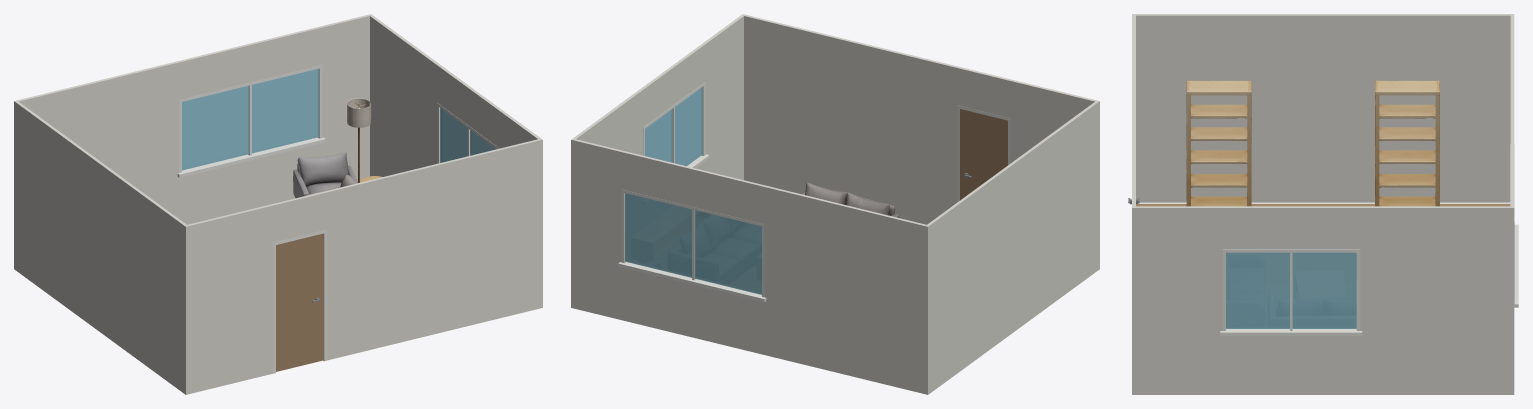
File: scenesmith.glb
The picture shows the model from 3 angles, left to right: view 1: azimuth 30°, elevation 25°; view 2: azimuth 150°, elevation 25°; view 3: azimuth 270°, elevation 25°; orthographic projection. The views are drawn at different scales.
Parts seen in each view (by area): view 1: scene_029_living_room_south_wall, scene_029_living_room_north_wall, scene_029_living_room_west_wall, scene_029_living_room_east_wall, scene_029_living_room_north_wall Window 0 | glazing, scene_029_living_room_south_wall Door 0 | wood leaf, furniture_group, scene_029_living_room_north_wall Window 0 | jamb, scene_029_living_room_east_wall Window 0 | glazing, scene_029_living_room_south_wall Door 0 | jamb, scene_029_living_room_east_wall Window 0 | jamb; view 2: scene_029_living_room_north_wall, scene_029_living_room_south_wall, scene_029_living_room_west_wall, scene_029_living_room_east_wall, scene_029_living_room_north_wall Window 0 | glazing, scene_029_living_room_south_wall Door 0 | wood leaf, scene_029_living_room_east_wall Window 0 | glazing, scene_029_living_room_north_wall Window 0 | jamb, furniture_group, scene_029_living_room_east_wall Window 0 | jamb, scene_029_living_room_south_wall Door 0 | jamb; view 3: scene_029_living_room_west_wall, scene_029_living_room_east_wall, furniture_group, scene_029_living_room_east_wall Window 0 | glazing, scene_029_living_room_east_wall Window 0 | jamb, scene_029_living_room_south_wall, floor, scene_029_living_room_north_wall, scene_029_living_room_north_wall Window 0 | jamb.
Part boxes in pixels (x1=…): scene_029_living_room_south_wall: x1=186, y1=139, x2=542, y2=394; scene_029_living_room_north_wall: x1=14, y1=15, x2=369, y2=224; scene_029_living_room_west_wall: x1=14, y1=101, x2=188, y2=394; scene_029_living_room_east_wall: x1=368, y1=14, x2=542, y2=176; scene_029_living_room_north_wall Window 0 | glazing: x1=182, y1=68, x2=318, y2=170; scene_029_living_room_south_wall Door 0 | wood leaf: x1=276, y1=233, x2=323, y2=371; furniture_group: x1=293, y1=98, x2=382, y2=198; scene_029_living_room_north_wall Window 0 | jamb: x1=177, y1=65, x2=325, y2=177; scene_029_living_room_east_wall Window 0 | glazing: x1=440, y1=108, x2=496, y2=162; scene_029_living_room_south_wall Door 0 | jamb: x1=273, y1=230, x2=326, y2=373; scene_029_living_room_east_wall Window 0 | jamb: x1=437, y1=103, x2=499, y2=163; scene_029_living_room_north_wall: x1=574, y1=139, x2=929, y2=393; scene_029_living_room_south_wall: x1=744, y1=15, x2=1096, y2=224; scene_029_living_room_west_wall: x1=925, y1=100, x2=1099, y2=394; scene_029_living_room_east_wall: x1=571, y1=14, x2=745, y2=308; scene_029_living_room_north_wall Window 0 | glazing: x1=625, y1=193, x2=761, y2=294; scene_029_living_room_south_wall Door 0 | wood leaf: x1=960, y1=109, x2=1007, y2=200; scene_029_living_room_east_wall Window 0 | glazing: x1=645, y1=87, x2=702, y2=166; scene_029_living_room_north_wall Window 0 | jamb: x1=618, y1=189, x2=766, y2=302; furniture_group: x1=802, y1=182, x2=899, y2=217; scene_029_living_room_east_wall Window 0 | jamb: x1=643, y1=82, x2=709, y2=168; scene_029_living_room_south_wall Door 0 | jamb: x1=957, y1=105, x2=1010, y2=202; scene_029_living_room_west_wall: x1=1132, y1=14, x2=1510, y2=202; scene_029_living_room_east_wall: x1=1132, y1=206, x2=1514, y2=394; furniture_group: x1=1186, y1=80, x2=1439, y2=206; scene_029_living_room_east_wall Window 0 | glazing: x1=1226, y1=252, x2=1356, y2=328; scene_029_living_room_east_wall Window 0 | jamb: x1=1220, y1=249, x2=1362, y2=335; scene_029_living_room_south_wall: x1=1132, y1=15, x2=1135, y2=394; floor: x1=1136, y1=203, x2=1510, y2=206; scene_029_living_room_north_wall: x1=1510, y1=14, x2=1514, y2=206; scene_029_living_room_north_wall Window 0 | jamb: x1=1510, y1=144, x2=1518, y2=307.
Size of the model in its own units: 6.05 by 2.71 by 5.1.
Materials: 15 (9 with a texture image).
